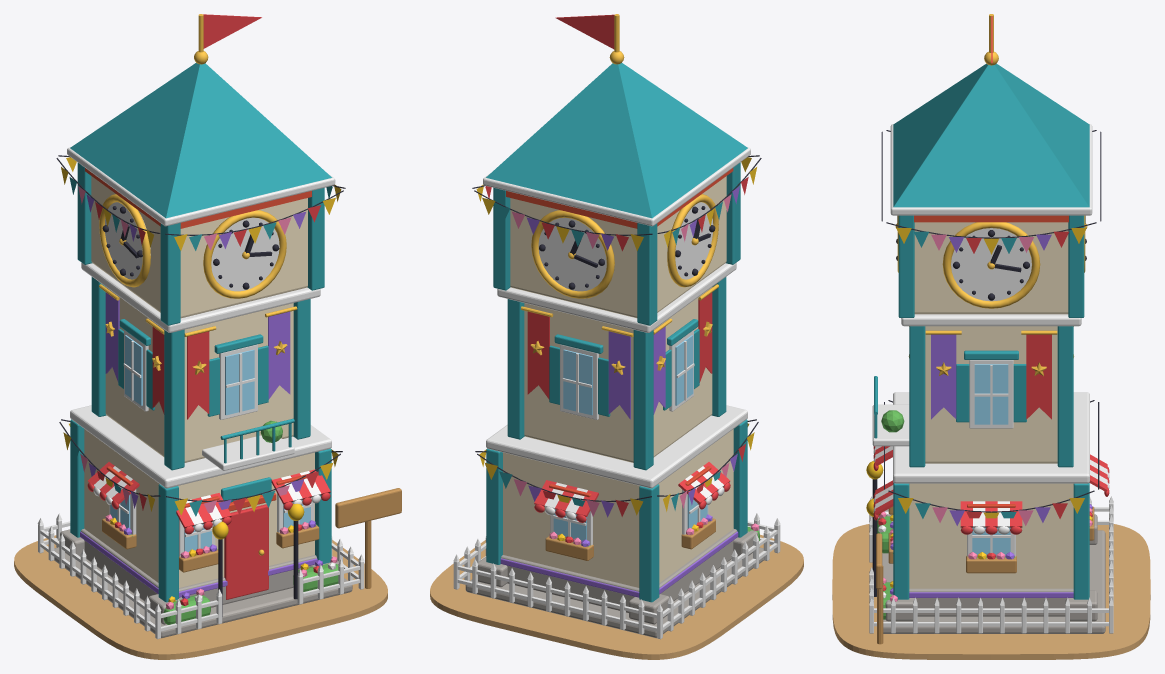
Rendered from clock-tower-stage-5.123419c1.glb.
3 views of the same model, side by side, from view 1: azimuth 30°, elevation 25°; view 2: azimuth 150°, elevation 25°; view 3: azimuth 270°, elevation 25° (orthographic). The views are drawn at different scales.
Visible parts, largest first — view 1: ClockTower_Stage5__T_teal, ClockTower_Stage5__T_white, ClockTower_Stage5__T_cream, ClockTower_Stage5__T_dirt, ClockTower_Stage5__T_red, ClockTower_Stage5__T_stone, ClockTower_Stage5__T_purple, ClockTower_Stage5__T_gold, ClockTower_Stage5__T_wood, ClockTower_Stage5__T_glass, ClockTower_Stage5__T_dark, ClockTower_Stage5__T_yellow (+3 smaller); view 2: ClockTower_Stage5__T_teal, ClockTower_Stage5__T_cream, ClockTower_Stage5__T_white, ClockTower_Stage5__T_dirt, ClockTower_Stage5__T_stone, ClockTower_Stage5__T_red, ClockTower_Stage5__T_purple, ClockTower_Stage5__T_gold, ClockTower_Stage5__T_glass, ClockTower_Stage5__T_dark, ClockTower_Stage5__T_beam, ClockTower_Stage5__T_yellow (+2 smaller); view 3: ClockTower_Stage5__T_teal, ClockTower_Stage5__T_cream, ClockTower_Stage5__T_white, ClockTower_Stage5__T_dirt, ClockTower_Stage5__T_stone, ClockTower_Stage5__T_red, ClockTower_Stage5__T_purple, ClockTower_Stage5__T_gold, ClockTower_Stage5__T_glass, ClockTower_Stage5__T_dark, ClockTower_Stage5__T_wood, ClockTower_Stage5__T_beam (+3 smaller).
Part boxes in pixels (<box>): ClockTower_Stage5__T_teal: <box>69,63,332,602</box>; ClockTower_Stage5__T_white: <box>37,147,364,639</box>; ClockTower_Stage5__T_cream: <box>84,176,314,587</box>; ClockTower_Stage5__T_dirt: <box>14,535,387,659</box>; ClockTower_Stage5__T_red: <box>87,14,330,605</box>; ClockTower_Stage5__T_stone: <box>54,528,352,638</box>; ClockTower_Stage5__T_purple: <box>80,194,322,598</box>; ClockTower_Stage5__T_gold: <box>99,14,297,555</box>; ClockTower_Stage5__T_wood: <box>102,488,401,588</box>; ClockTower_Stage5__T_glass: <box>110,335,310,552</box>; ClockTower_Stage5__T_dark: <box>56,155,345,616</box>; ClockTower_Stage5__T_yellow: <box>61,157,341,602</box>; ClockTower_Stage5__T_teal: <box>486,63,747,602</box>; ClockTower_Stage5__T_cream: <box>503,176,733,587</box>; ClockTower_Stage5__T_white: <box>453,147,780,639</box>; ClockTower_Stage5__T_dirt: <box>430,534,803,659</box>; ClockTower_Stage5__T_stone: <box>465,529,763,638</box>; ClockTower_Stage5__T_red: <box>485,14,748,542</box>; ClockTower_Stage5__T_purple: <box>500,186,739,597</box>; ClockTower_Stage5__T_gold: <box>521,14,718,374</box>; ClockTower_Stage5__T_glass: <box>553,335,707,541</box>; ClockTower_Stage5__T_dark: <box>472,155,761,501</box>; ClockTower_Stage5__T_beam: <box>506,168,733,497</box>; ClockTower_Stage5__T_yellow: <box>476,157,756,540</box>; ClockTower_Stage5__T_teal: <box>874,63,1089,599</box>; ClockTower_Stage5__T_cream: <box>909,222,1073,588</box>; ClockTower_Stage5__T_white: <box>869,124,1113,633</box>; ClockTower_Stage5__T_dirt: <box>832,524,1150,659</box>; ClockTower_Stage5__T_stone: <box>882,514,1105,633</box>; ClockTower_Stage5__T_red: <box>873,16,1109,590</box>; ClockTower_Stage5__T_purple: <box>890,234,1092,597</box>; ClockTower_Stage5__T_gold: <box>895,14,1087,375</box>; ClockTower_Stage5__T_glass: <box>972,364,1010,555</box>; ClockTower_Stage5__T_dark: <box>872,130,1101,596</box>; ClockTower_Stage5__T_wood: <box>876,506,1094,644</box>; ClockTower_Stage5__T_beam: <box>914,215,1068,507</box>.
Size of the model in its own units: 4.98 by 9.62 by 4.8.
